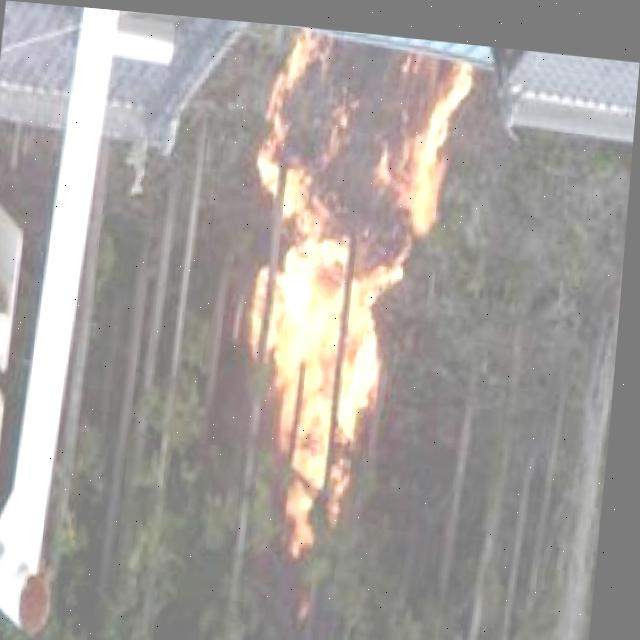Fire: (235, 29, 473, 550)
